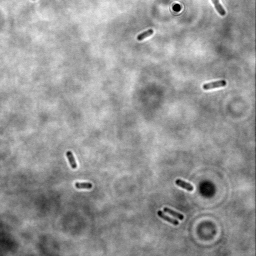Rod: (157, 209, 180, 227), (163, 205, 185, 222), (202, 78, 228, 92), (175, 177, 195, 193), (65, 150, 79, 170), (137, 27, 155, 42), (73, 180, 94, 191)
